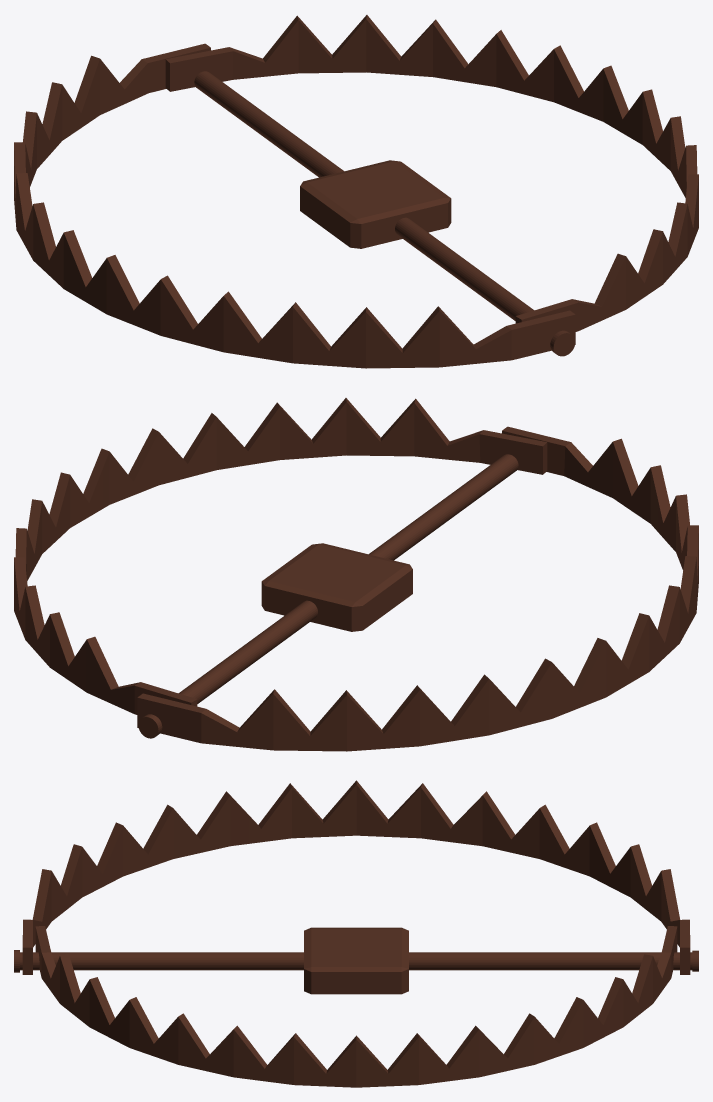
File: Trap.fbx
The picture shows the model from 3 angles, top to bottom: view 1: azimuth 30°, elevation 25°; view 2: azimuth 150°, elevation 25°; view 3: azimuth 270°, elevation 25°; orthographic projection. The views are drawn at different scales.
Parts seen in each view (by area): view 1: Trap; view 2: Trap; view 3: Trap.
Boxes of the visible parts, x1,y1,x2,y2 form: Trap: (14,15,698,368); Trap: (14,398,698,751); Trap: (14,780,698,1087).
Size of the model in its own units: 113 by 11.57 by 127.
